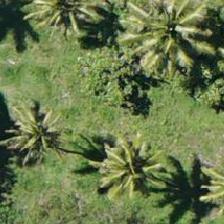coconut_tree: (82, 129, 172, 219), (0, 90, 81, 180), (102, 0, 192, 70)
